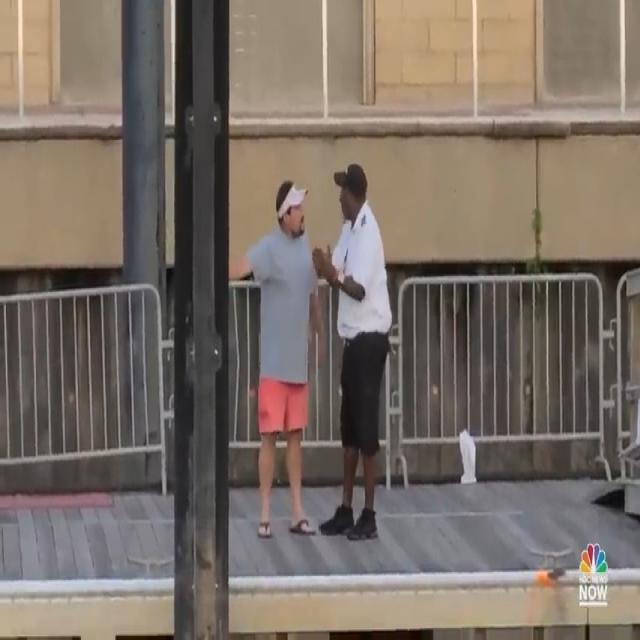non-fight: (228, 154, 392, 547)
